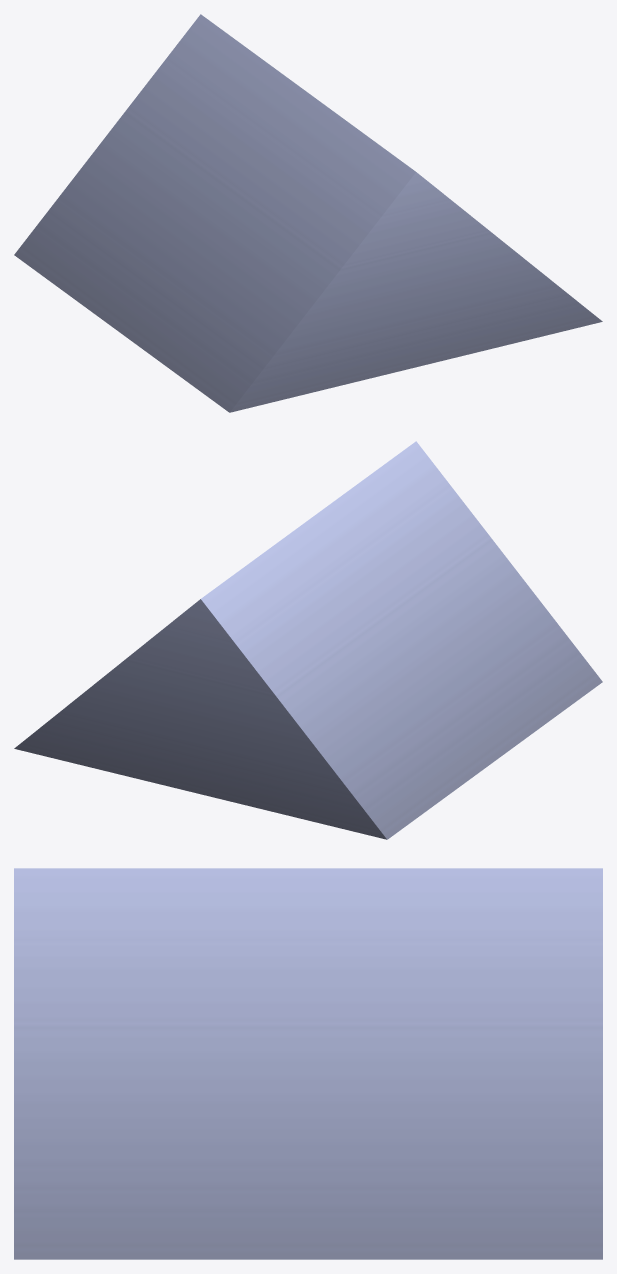
Rendered from shape-triangular-prism-low.fbx.
The picture shows the model from 3 angles, top to bottom: view 1: azimuth 30°, elevation 25°; view 2: azimuth 150°, elevation 25°; view 3: azimuth 270°, elevation 25°; orthographic projection. The views are drawn at different scales.
Visible parts, largest first — view 1: shape-triangular-prism-low; view 2: shape-triangular-prism-low; view 3: shape-triangular-prism-low.
Part boxes in pixels (x1,y1,x2,y2): shape-triangular-prism-low: [14, 14, 602, 412]; shape-triangular-prism-low: [14, 441, 602, 839]; shape-triangular-prism-low: [14, 868, 602, 1259].
Size of the model in its own units: 100 by 50 by 100.
